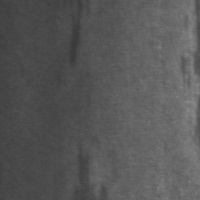inclusion: (58, 1, 93, 76), (68, 139, 101, 200), (170, 49, 198, 100)
